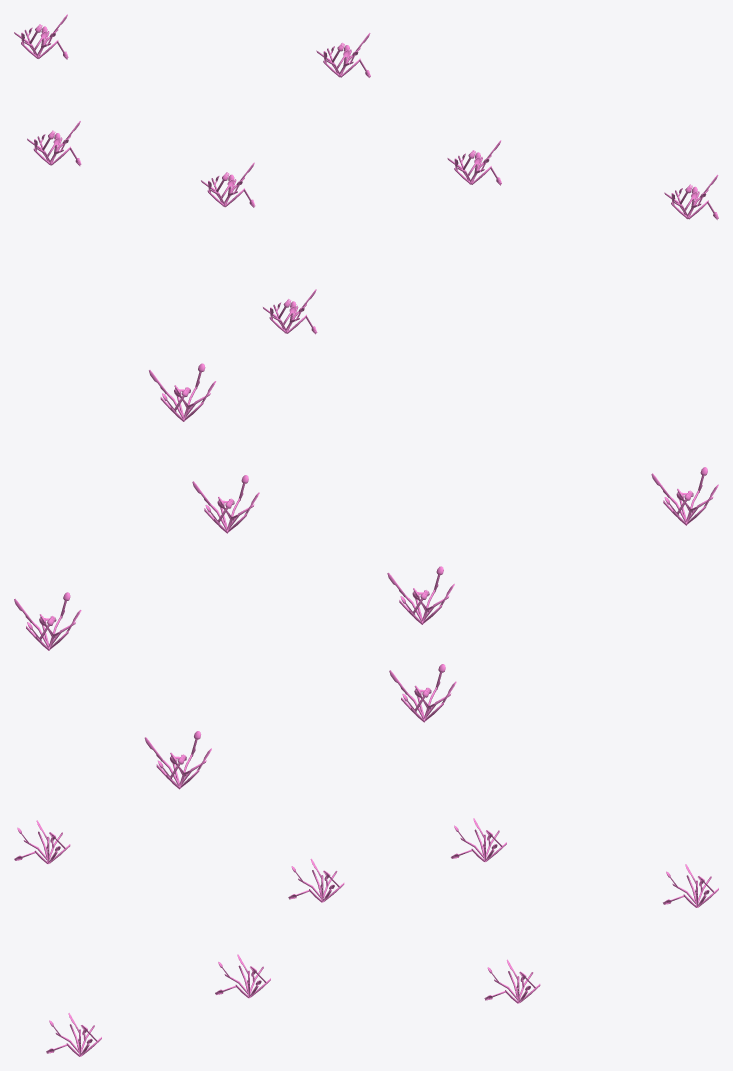
Rendered from PinkCoralMany.gltf.
3 views of the same model, one above another, from view 1: azimuth 30°, elevation 25°; view 2: azimuth 150°, elevation 25°; view 3: azimuth 270°, elevation 25° (orthographic). The views are drawn at different scales.
Parts seen in each view (by area): view 1: PinkCoralMany; view 2: PinkCoralMany; view 3: PinkCoralMany.
Part boxes in pixels (x1,y1,x2,y2): PinkCoralMany: (14,14,718,334); PinkCoralMany: (14,363,718,789); PinkCoralMany: (14,818,718,1056).
Size of the model in its own units: 24.95 by 1.92 by 33.96.
